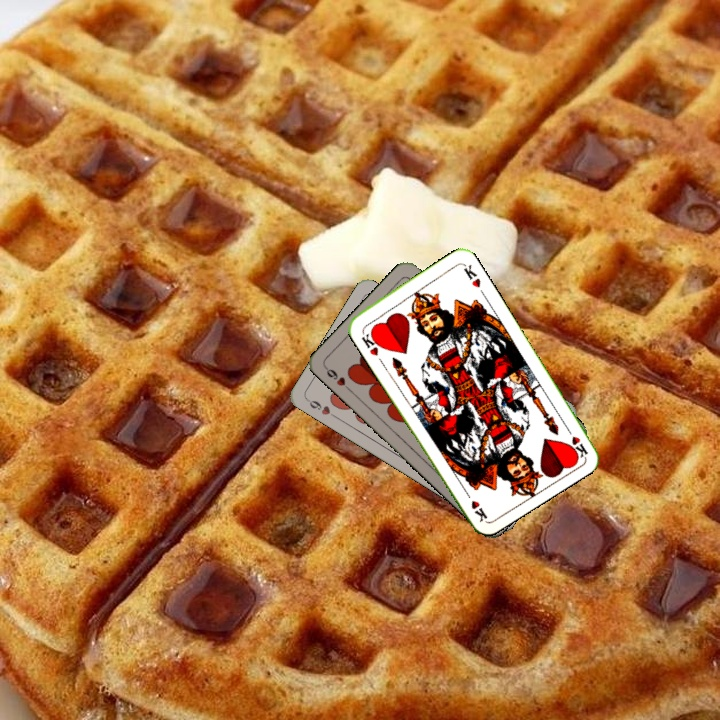H9: (321, 363, 354, 394), (303, 395, 340, 421)
HK: (561, 421, 590, 460), (357, 327, 384, 358)
